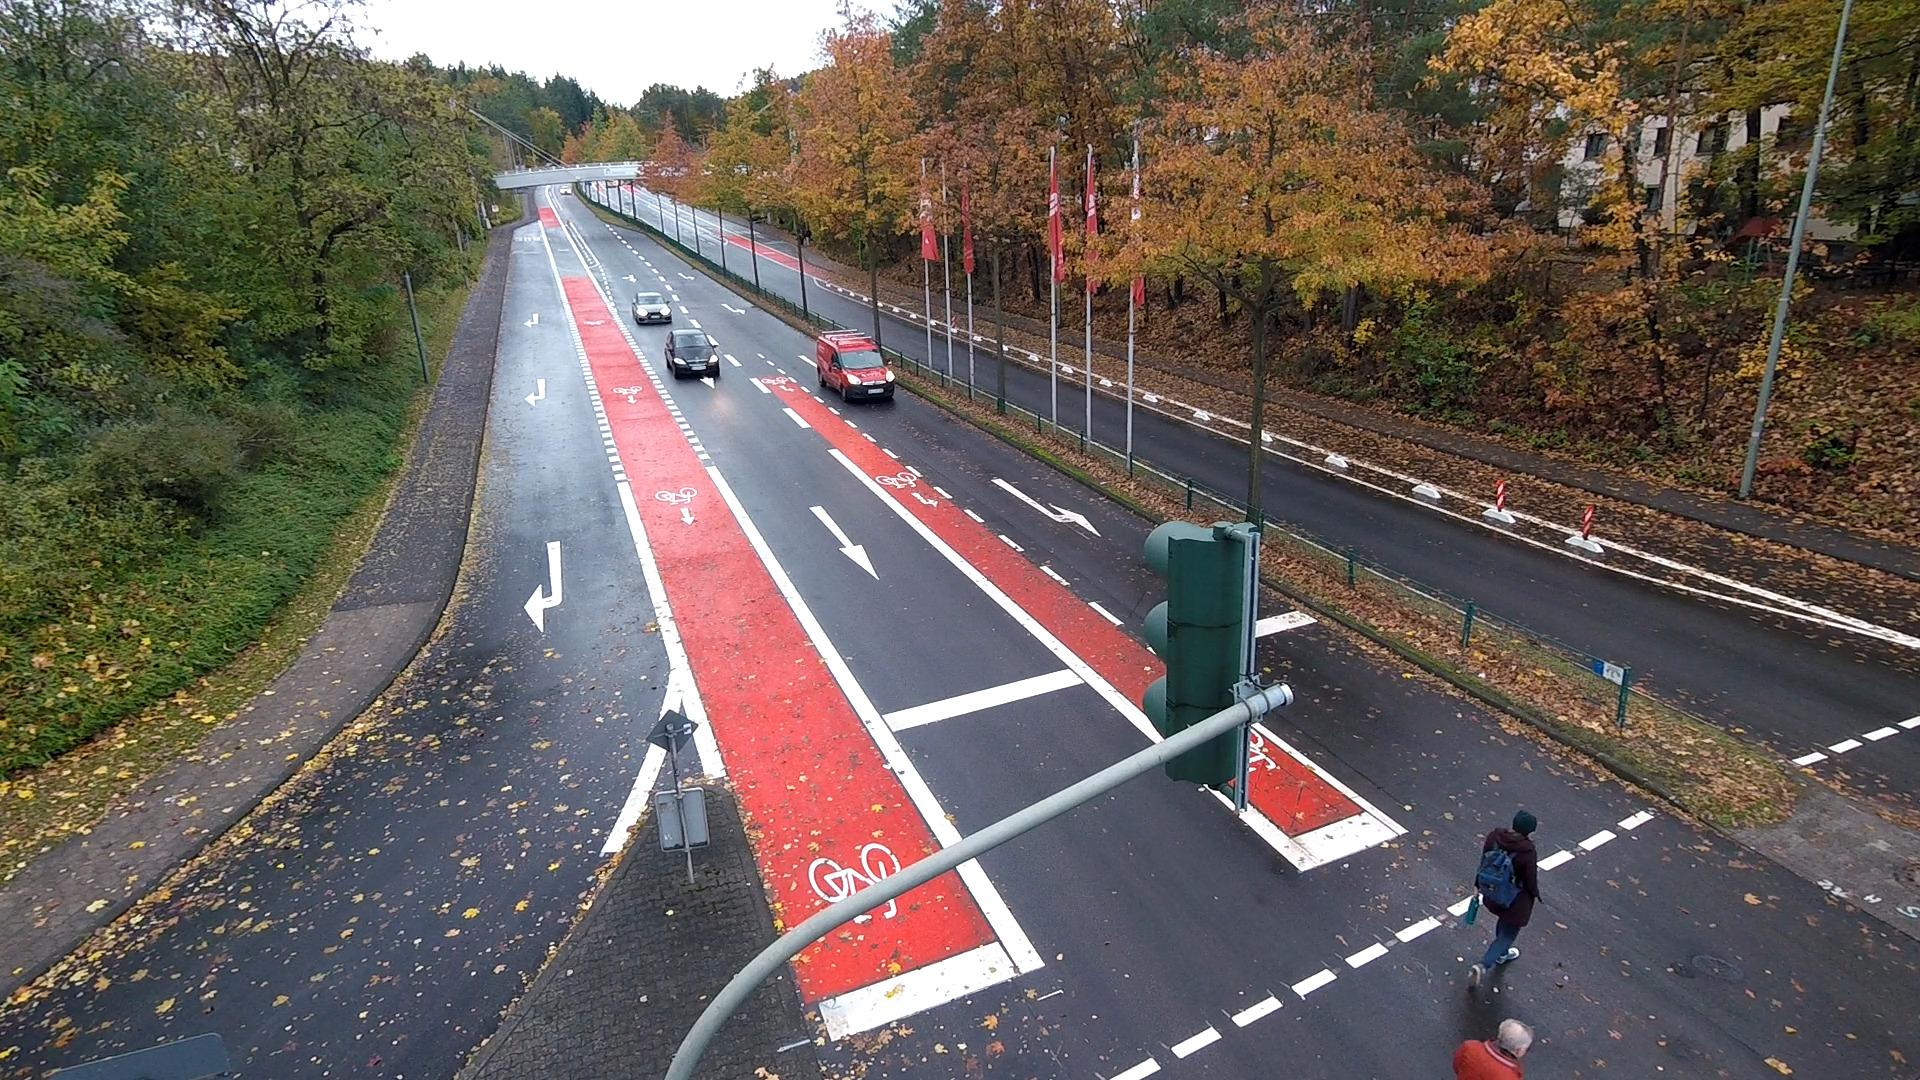bicycle-lane: (533, 184, 963, 936), (722, 352, 1167, 743), (1263, 400, 1920, 641), (788, 860, 1044, 1048), (1238, 723, 1409, 871), (1133, 364, 1254, 427), (803, 258, 872, 300), (1001, 326, 1052, 362), (877, 288, 929, 319), (753, 237, 799, 271), (1091, 351, 1127, 385), (1203, 782, 1236, 814), (1057, 341, 1089, 372), (723, 226, 752, 250), (695, 214, 721, 238), (974, 319, 999, 343), (633, 187, 660, 208), (950, 310, 970, 333), (929, 304, 948, 327), (675, 207, 693, 225), (661, 199, 675, 215), (621, 182, 630, 191), (598, 180, 603, 191)
car: (815, 323, 895, 406), (663, 327, 725, 381), (632, 288, 674, 326), (559, 182, 576, 195), (607, 179, 618, 187), (584, 178, 593, 185)
car-lane: (0, 220, 675, 1080), (810, 578, 1920, 1080), (553, 180, 1170, 835), (1259, 447, 1920, 835), (1132, 402, 1253, 514), (803, 274, 874, 340), (1004, 354, 1052, 421), (878, 308, 929, 368), (1090, 385, 1129, 456), (756, 253, 803, 311), (1056, 372, 1087, 439), (633, 322, 671, 365), (723, 236, 756, 285), (973, 342, 998, 399), (671, 298, 709, 330), (753, 227, 798, 253), (696, 225, 723, 267), (635, 198, 664, 233), (931, 328, 951, 376), (720, 357, 752, 384), (952, 336, 969, 385), (679, 216, 698, 252), (721, 218, 752, 239), (693, 205, 721, 226), (661, 208, 678, 242), (619, 185, 633, 214), (635, 182, 658, 196), (675, 198, 693, 214), (608, 187, 619, 212), (577, 180, 590, 198), (659, 191, 675, 205), (599, 187, 609, 207), (590, 182, 599, 202)
person: (1460, 810, 1543, 992), (1453, 1015, 1530, 1080)
